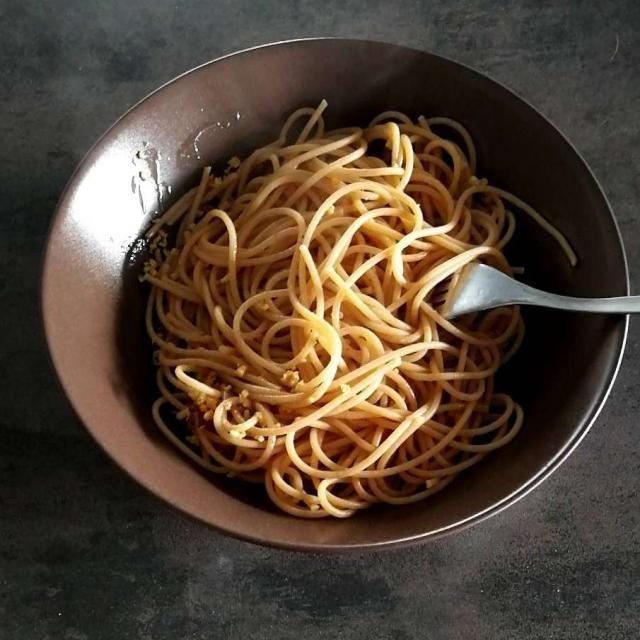pasta: (138, 115, 527, 514)
